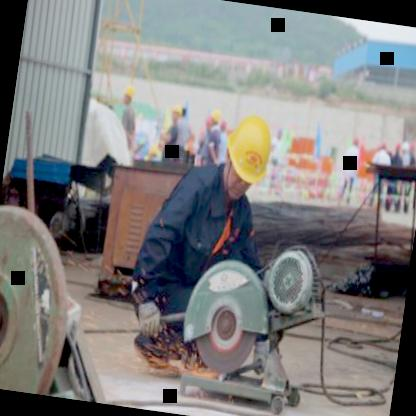helmet: (219, 106, 280, 199)
